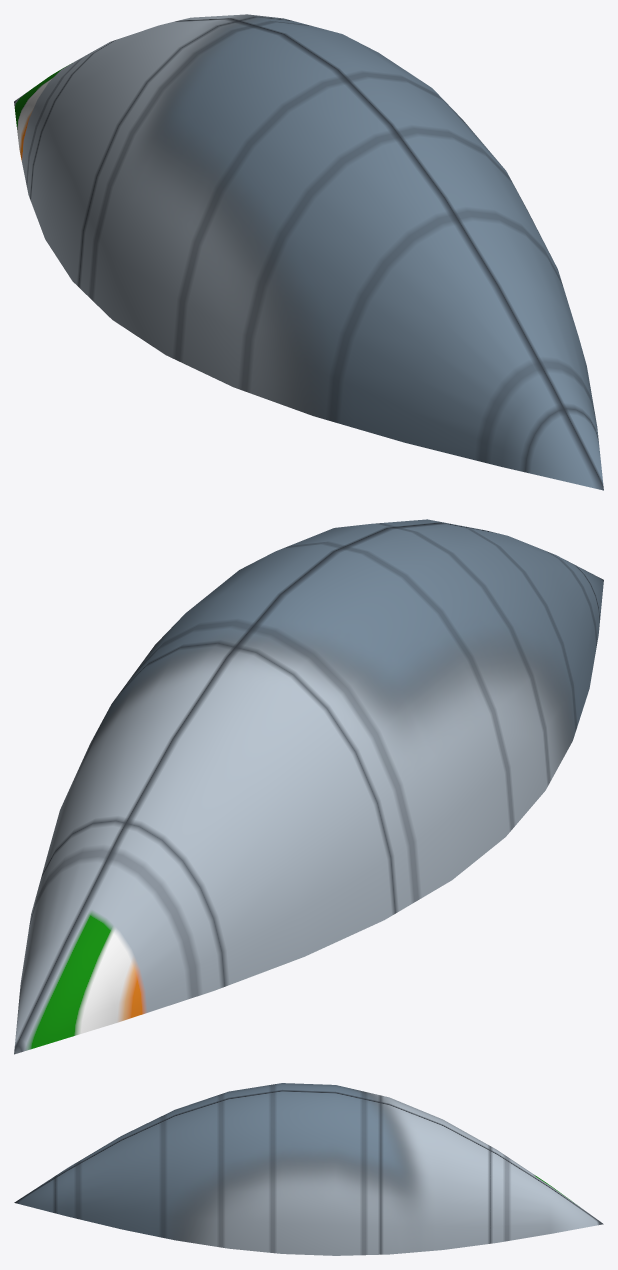
File: canopy.glb
The picture shows the model from 3 angles, top to bottom: view 1: azimuth 30°, elevation 25°; view 2: azimuth 150°, elevation 25°; view 3: azimuth 270°, elevation 25°; orthographic projection. The views are drawn at different scales.
Parts seen in each view (by area): view 1: geometry_0; view 2: geometry_0; view 3: geometry_0.
Boxes of the visible parts, bbox=[...] form: geometry_0: bbox=[14, 14, 603, 490]; geometry_0: bbox=[14, 519, 603, 1054]; geometry_0: bbox=[14, 1083, 603, 1255].
Size of the model in its own units: 0.8314 by 0.6245 by 2.5.
1 material, 1 textured.
